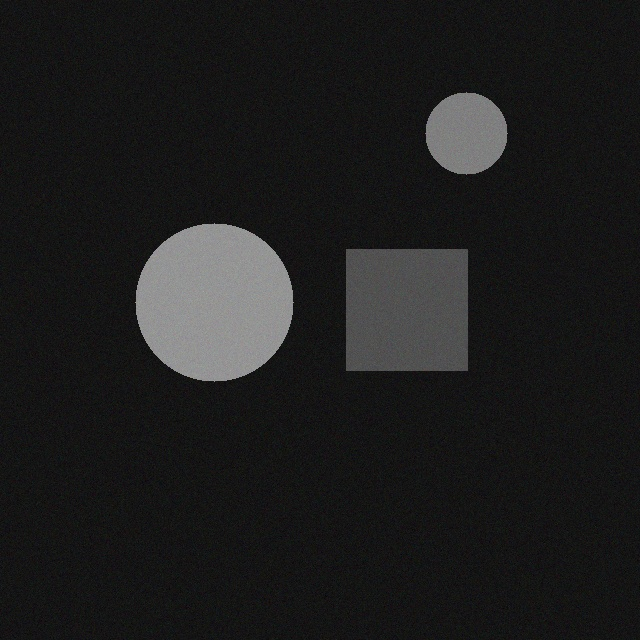circle: (120, 228, 278, 386), (410, 97, 492, 179)
square: (331, 254, 452, 375)
